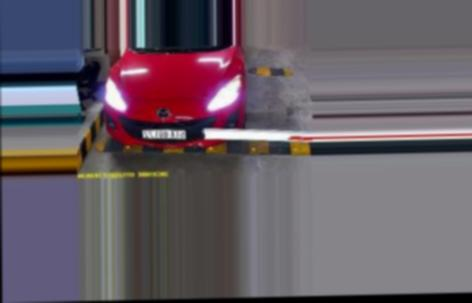License_Plate: (139, 128, 187, 143)
